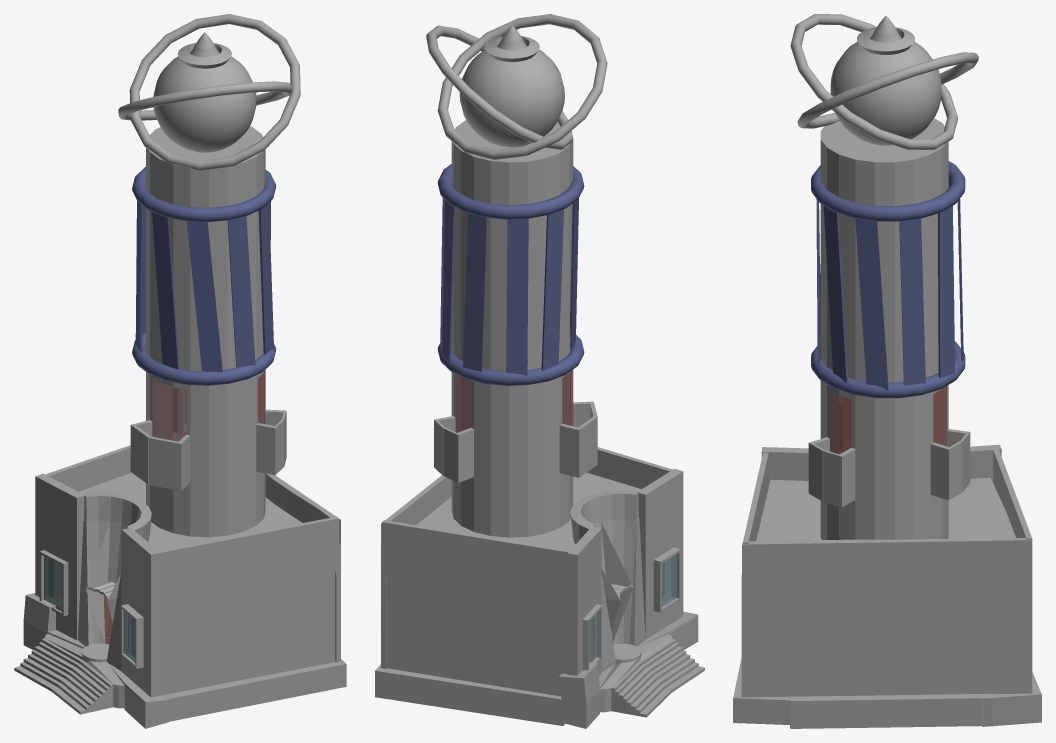
The model's file is gedung pencakar.fbx.
The picture shows the model from 3 angles, left to right: view 1: azimuth 30°, elevation 25°; view 2: azimuth 150°, elevation 25°; view 3: azimuth 270°, elevation 25°; orthographic projection. The views are drawn at different scales.
Visible parts, largest first — view 1: pCylinder2, pCube9, polySurface3, polySurface11, pSphere1, polySurface5, polySurface7, pCube12, pCube7, pTorus3, polySurface10, polySurface12 (+5 smaller); view 2: pCylinder2, pCube11, polySurface3, polySurface11, pSphere1, polySurface5, pCube8, pCube12, pTorus4, polySurface7, pTorus3, pTorus1 (+3 smaller); view 3: pCube12, pCylinder2, polySurface11, pSphere1, pCube10, pTorus4, pTorus3, pTorus1, pCube7, pCube8, polySurface5, pCube11 (+2 smaller).
Part boxes in pixels (left/top/right/bottom): pCylinder2: left=130, top=126, right=286, bottom=537; pCube9: left=158, top=516, right=338, bottom=695; polySurface3: left=14, top=492, right=169, bottom=728; polySurface11: left=132, top=167, right=275, bottom=367; pSphere1: left=153, top=32, right=256, bottom=152; polySurface5: left=120, top=527, right=160, bottom=697; polySurface7: left=35, top=473, right=84, bottom=640; pCube12: left=79, top=473, right=340, bottom=662; pCube7: left=163, top=659, right=346, bottom=721; pTorus3: left=129, top=14, right=300, bottom=170; polySurface10: left=187, top=221, right=222, bottom=372; polySurface12: left=152, top=212, right=179, bottom=369; pCylinder2: left=434, top=120, right=597, bottom=537; pCube11: left=382, top=520, right=569, bottom=696; polySurface3: left=559, top=490, right=704, bottom=728; polySurface11: left=437, top=164, right=584, bottom=375; pSphere1: left=459, top=25, right=564, bottom=147; polySurface5: left=637, top=468, right=683, bottom=639; pCube8: left=375, top=664, right=564, bottom=725; pCube12: left=381, top=472, right=641, bottom=668; pTorus4: left=437, top=14, right=607, bottom=159; polySurface7: left=567, top=527, right=601, bottom=675; pTorus3: left=426, top=25, right=572, bottom=149; pTorus1: left=437, top=335, right=584, bottom=385; pCube12: left=741, top=477, right=1032, bottom=697; pCylinder2: left=808, top=118, right=970, bottom=539; polySurface11: left=811, top=161, right=965, bottom=390; pSphere1: left=830, top=16, right=941, bottom=145; pCube10: left=790, top=693, right=992, bottom=728; pTorus4: left=790, top=14, right=958, bottom=149; pTorus3: left=797, top=52, right=978, bottom=128; pTorus1: left=811, top=341, right=965, bottom=398; pCube7: left=733, top=658, right=794, bottom=724; pCube8: left=982, top=672, right=1041, bottom=726; polySurface5: left=761, top=447, right=808, bottom=486; pCube11: left=993, top=449, right=1032, bottom=539.
Bounding box in the file's own units: 12.06 × 29.94 × 12.43.
